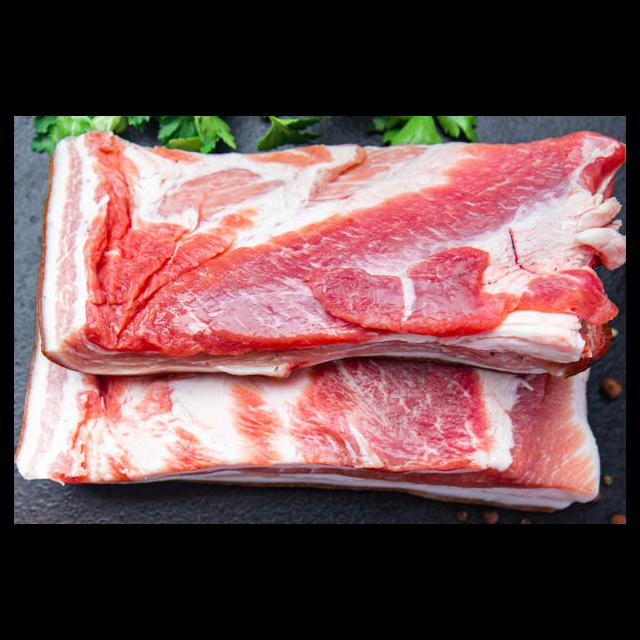pork: (45, 129, 621, 364), (21, 350, 616, 498)
